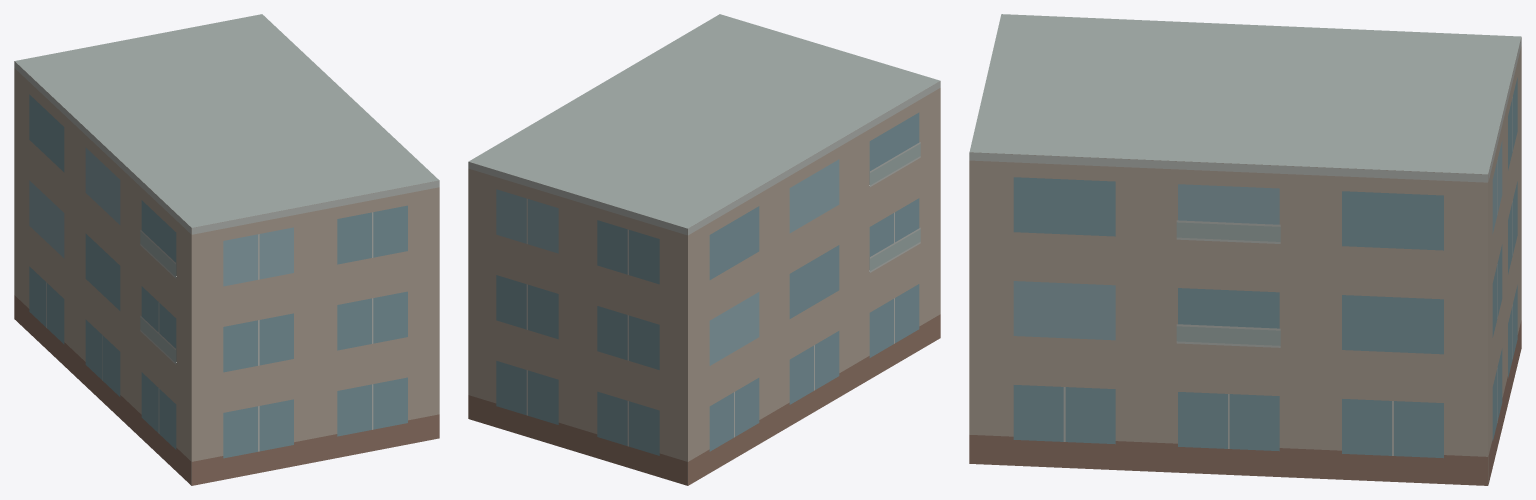
Rendered from survey-upis-32888095.glb.
The picture shows the model from 3 angles, left to right: view 1: azimuth 30°, elevation 25°; view 2: azimuth 150°, elevation 25°; view 3: azimuth 270°, elevation 25°; orthographic projection. The views are drawn at different scales.
Parts seen in each view (by area): view 1: survey-upis-32888095.tmp; view 2: survey-upis-32888095.tmp; view 3: survey-upis-32888095.tmp.
Part boxes in pixels (x1,y1,x2,y2): survey-upis-32888095.tmp: (14, 14, 439, 485); survey-upis-32888095.tmp: (468, 14, 940, 485); survey-upis-32888095.tmp: (969, 14, 1521, 485).
Size of the model in its own units: 10.11 by 9.15 by 14.71.
